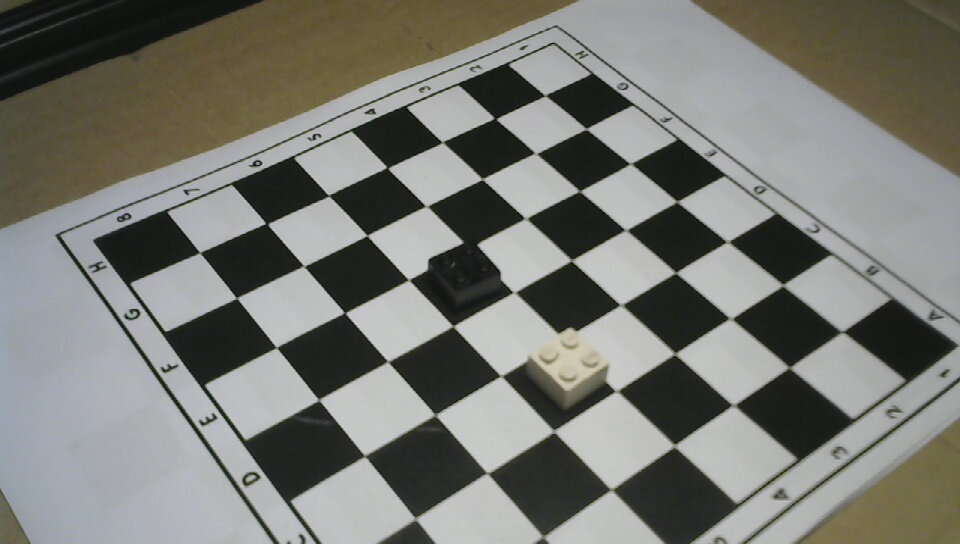bp: (424, 233, 504, 312)
